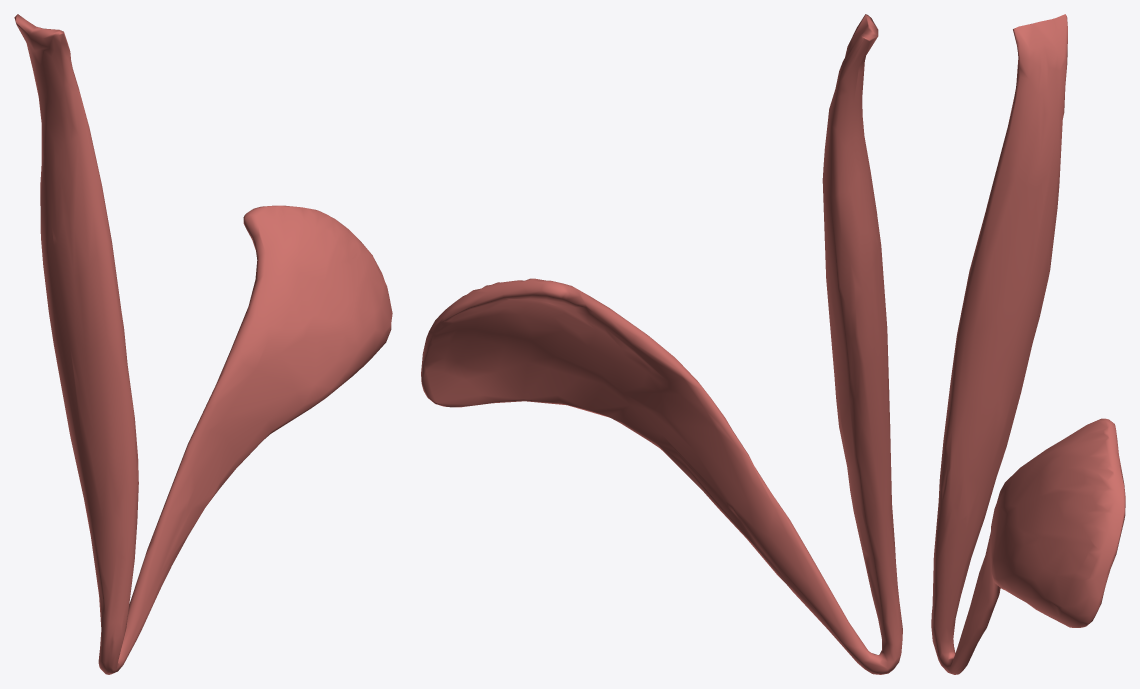
3 renders of one model, left to right at view 1: azimuth 30°, elevation 25°; view 2: azimuth 150°, elevation 25°; view 3: azimuth 270°, elevation 25°, orthographic. The views are drawn at different scales.
Visible parts, largest first — view 1: 左侧上斜肌; view 2: 左侧上斜肌; view 3: 左侧上斜肌.
Part boxes in pixels (x1,y1,x2,y2): 左侧上斜肌: [14, 14, 392, 674]; 左侧上斜肌: [421, 14, 902, 674]; 左侧上斜肌: [931, 14, 1125, 674].
Bounding box in the file's own units: 0.0412 × 0.0638 × 0.0175.
